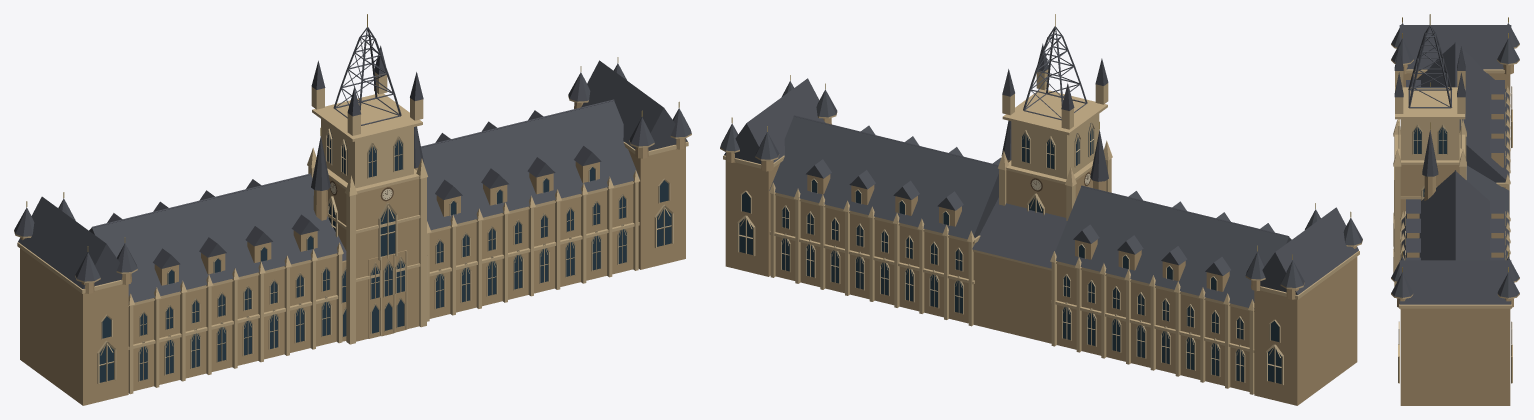
Rendered from university.lod0.glb.
3 views of the same model, side by side, from view 1: azimuth 30°, elevation 25°; view 2: azimuth 150°, elevation 25°; view 3: azimuth 270°, elevation 25° (orthographic). The views are drawn at different scales.
Parts seen in each view (by area): view 1: Trim, Mass, Glass; view 2: Trim, Mass, Glass; view 3: Trim, Mass, Glass.
Boxes of the visible parts, x1,y1,x2,y2 form: Trim: (14, 14, 691, 394); Mass: (20, 102, 685, 405); Glass: (99, 129, 671, 382); Trim: (720, 14, 1362, 394); Mass: (725, 114, 1357, 405); Glass: (739, 123, 1281, 383); Trim: (1391, 14, 1519, 383); Mass: (1397, 64, 1513, 405); Glass: (1413, 127, 1446, 196).
Bounding box in the file's own units: 72.9 × 34.7 × 15.3.
